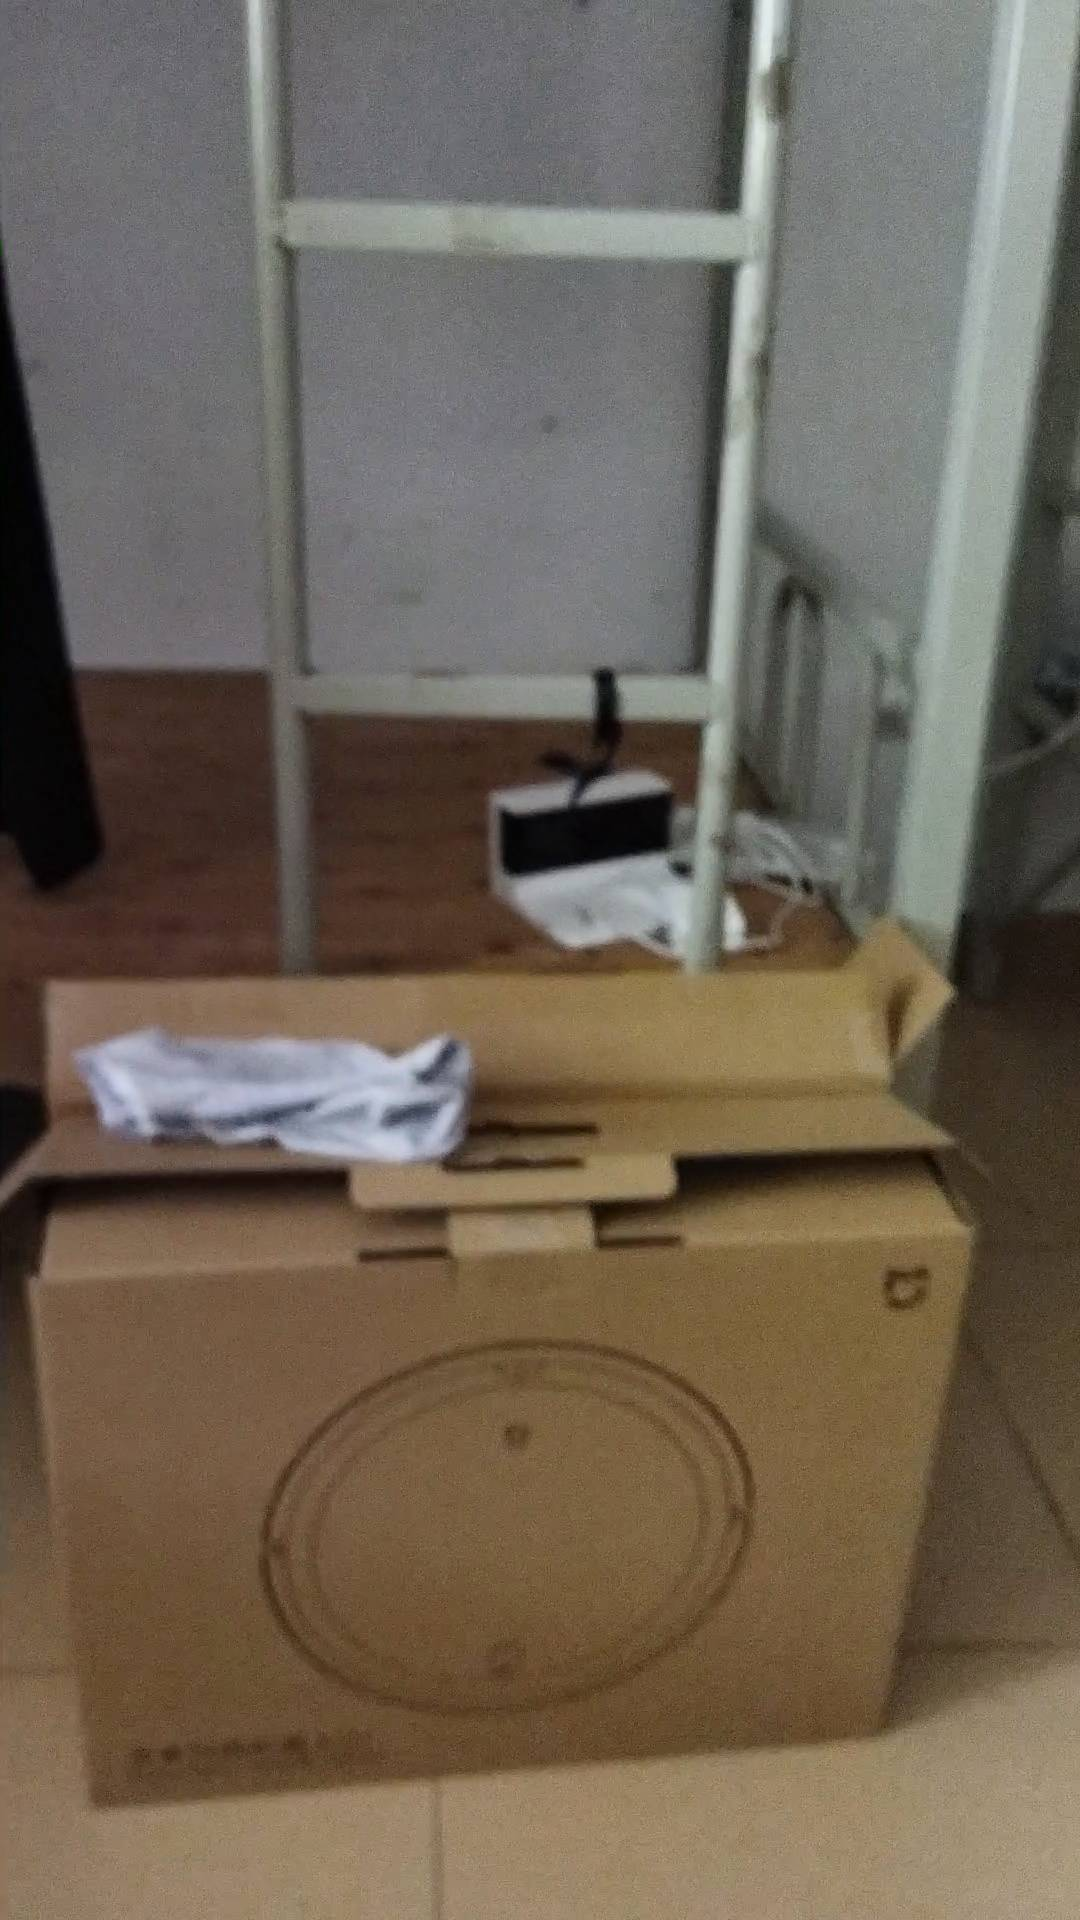recharge seat: (491, 767, 705, 948)
